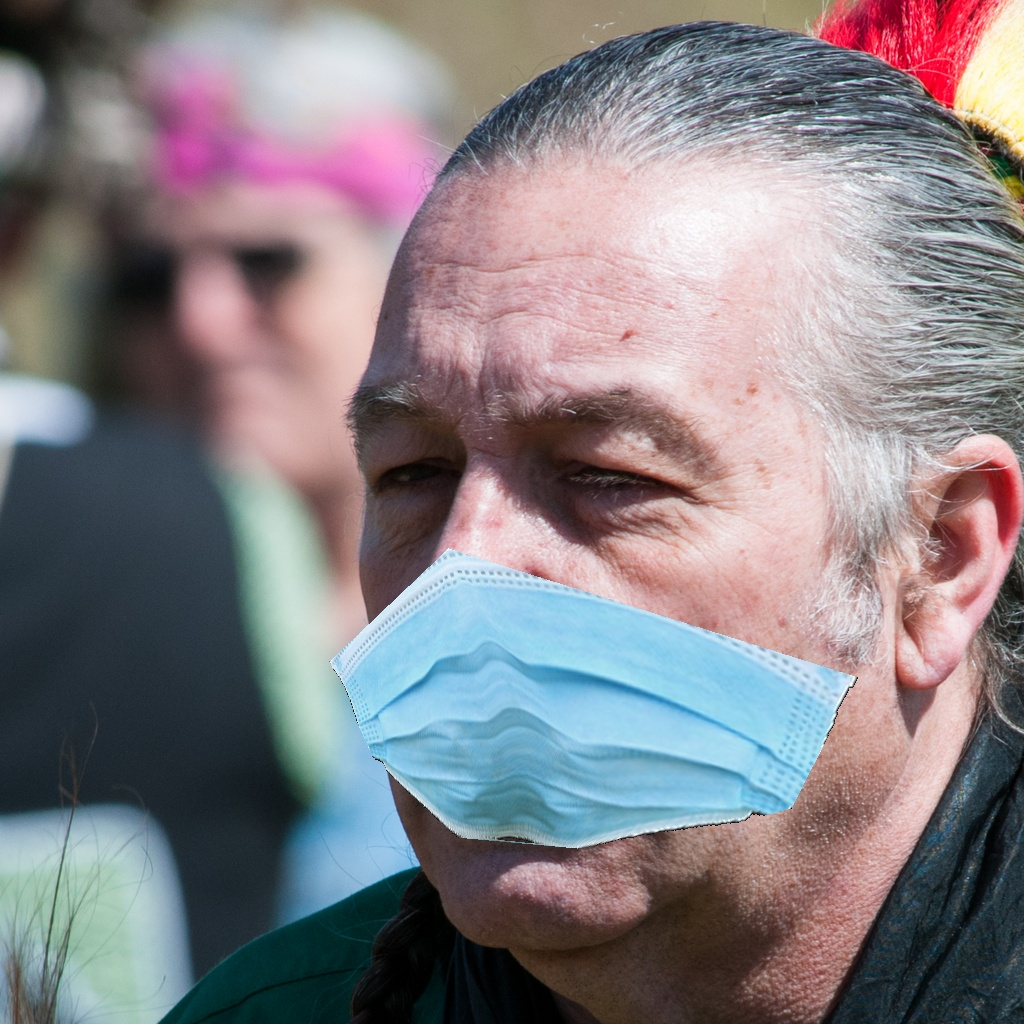mascarilla_mal_puesta: (339, 343, 952, 908)
